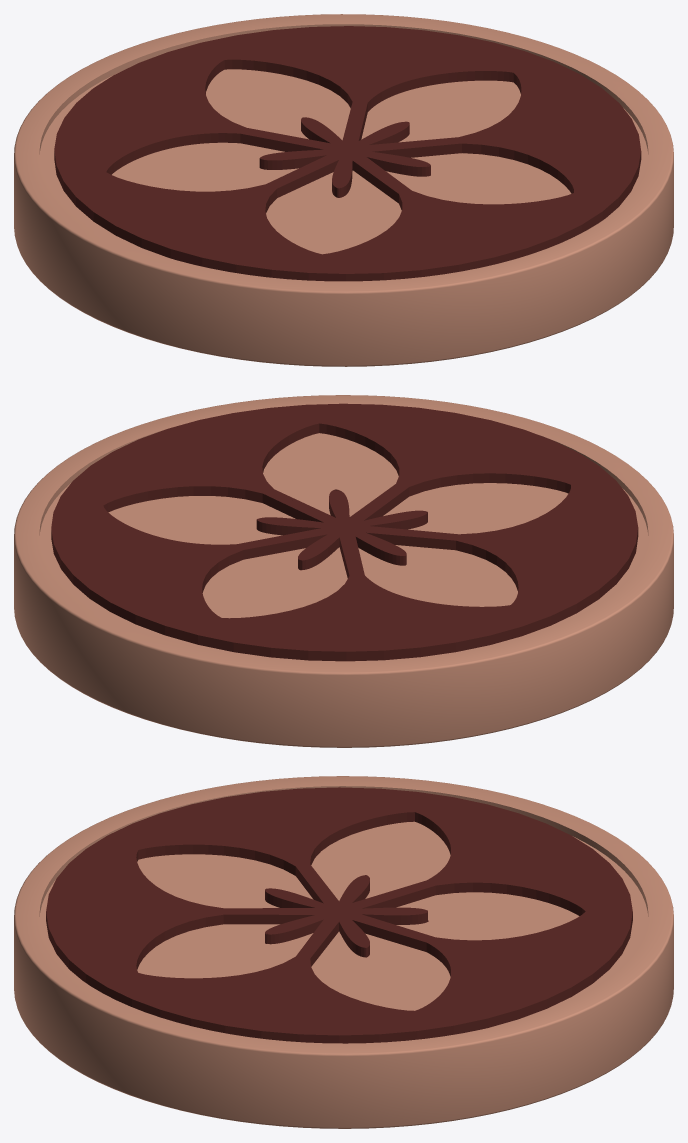
The model's file is Rhododendrone_W.fbx.
3 renders of one model, top to bottom at view 1: azimuth 30°, elevation 25°; view 2: azimuth 150°, elevation 25°; view 3: azimuth 270°, elevation 25°, orthographic.
Visible parts, largest first — view 1: Tile09.002; view 2: Tile09.002; view 3: Tile09.002.
Boxes of the visible parts, x1,y1,x2,y2 form: Tile09.002: (14,14,673,366); Tile09.002: (14,395,673,747); Tile09.002: (14,776,673,1128).
Bounding box in the file's own units: 13.25 × 1.76 × 13.25.
